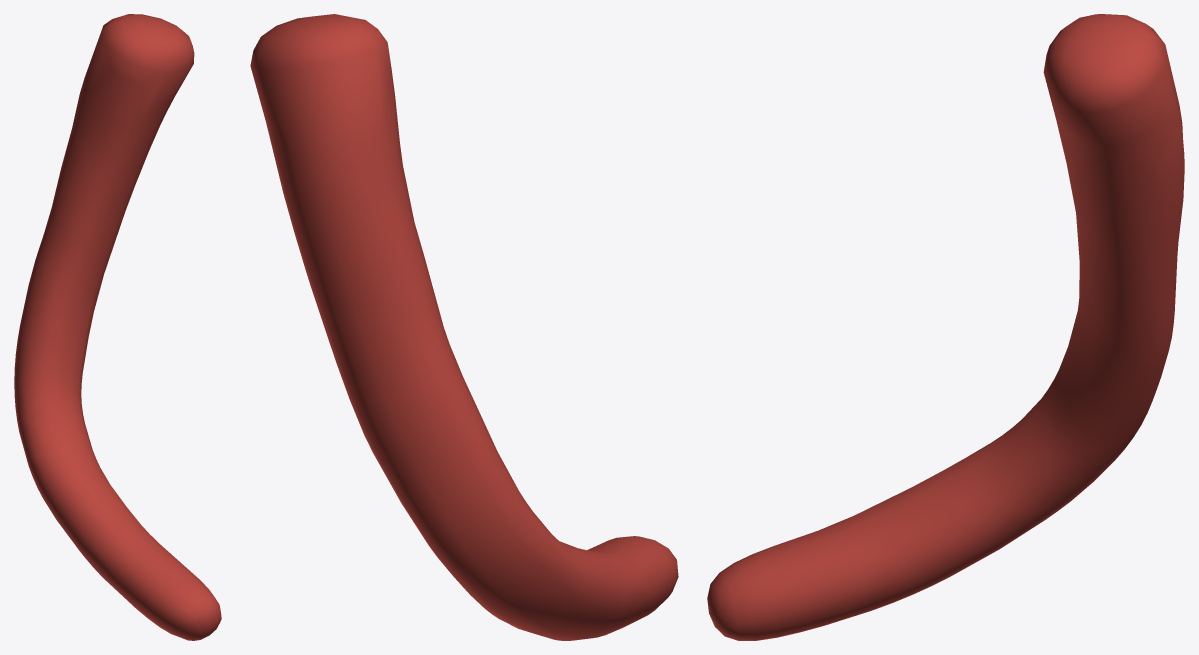
Rendered from musculos-tendon-sheath-of-flexor-hallucis-longus-l.glb.
The picture shows the model from 3 angles, left to right: view 1: azimuth 30°, elevation 25°; view 2: azimuth 150°, elevation 25°; view 3: azimuth 270°, elevation 25°; orthographic projection. The views are drawn at different scales.
Visible parts, largest first — view 1: Tendon sheath of flexor hallucis longus.l; view 2: Tendon sheath of flexor hallucis longus.l; view 3: Tendon sheath of flexor hallucis longus.l.
Part boxes in pixels (left/top/right/bottom): Tendon sheath of flexor hallucis longus.l: left=14, top=14, right=221, bottom=640; Tendon sheath of flexor hallucis longus.l: left=250, top=14, right=678, bottom=640; Tendon sheath of flexor hallucis longus.l: left=707, top=14, right=1184, bottom=640.
Bounding box in the file's own units: 0.0203 × 0.0505 × 0.0328.
